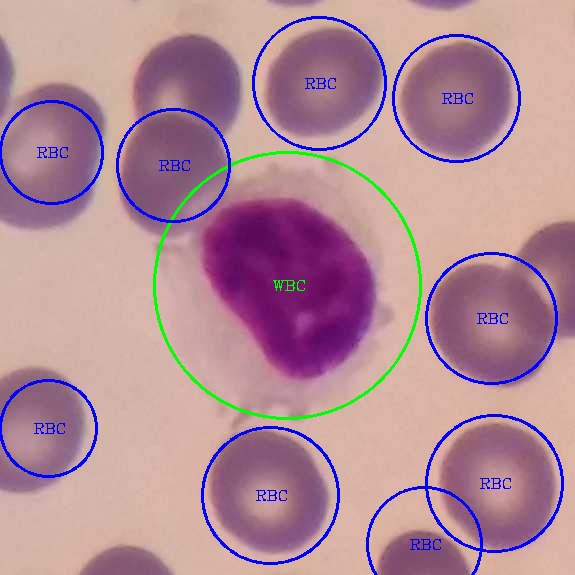RBC: (204, 422, 336, 562), (425, 257, 558, 394), (0, 77, 113, 238), (437, 419, 562, 557), (116, 116, 237, 248), (261, 22, 391, 144), (396, 38, 519, 165), (119, 29, 251, 142), (0, 363, 94, 502), (506, 213, 574, 350)
WBC: (172, 166, 396, 419)
